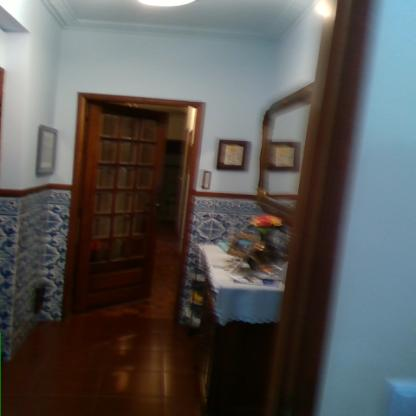semi: (69, 86, 212, 342)
